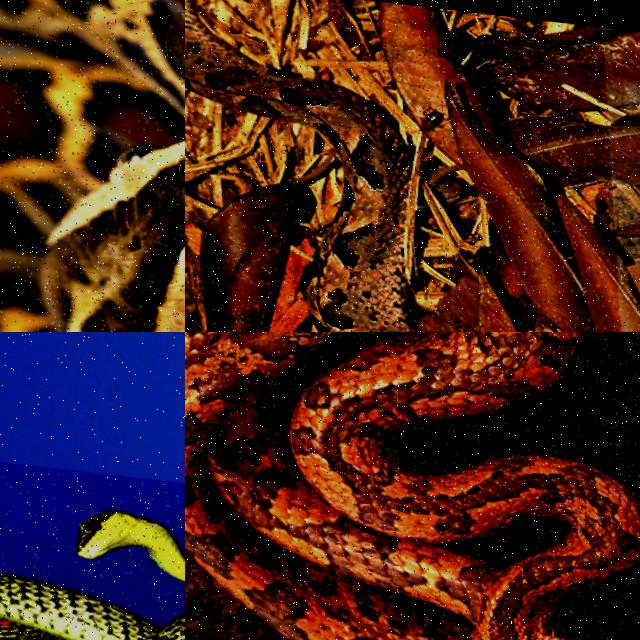Calloselasma rhodostoma: (185, 0, 418, 331)
Chrysopelea ornata: (0, 575, 184, 639)
Ovophis monticola: (185, 332, 639, 639)
Python bivittatus: (0, 0, 184, 331)
snake: (185, 332, 639, 639), (185, 0, 418, 331), (0, 0, 184, 331), (0, 575, 184, 639)
